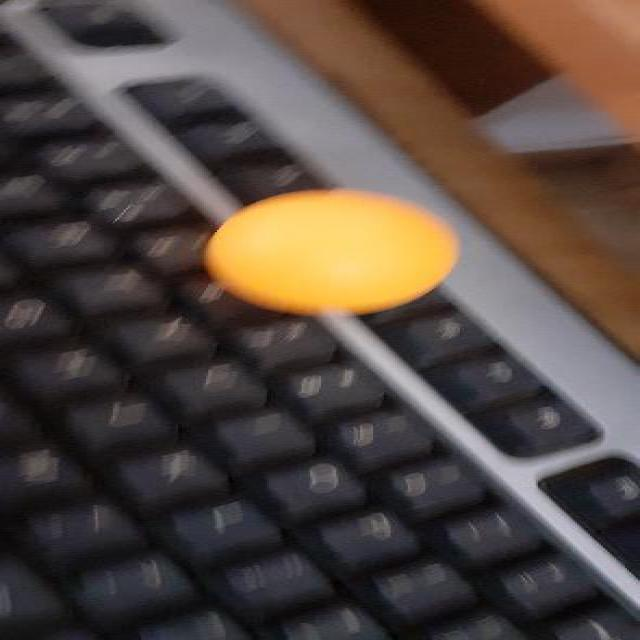oball: (212, 188, 454, 314)
